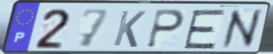2: (34, 8, 73, 51)
7: (79, 8, 109, 50)
E: (181, 8, 228, 50)
K: (111, 9, 148, 49)
N: (220, 8, 264, 51)
P: (144, 8, 187, 50)
